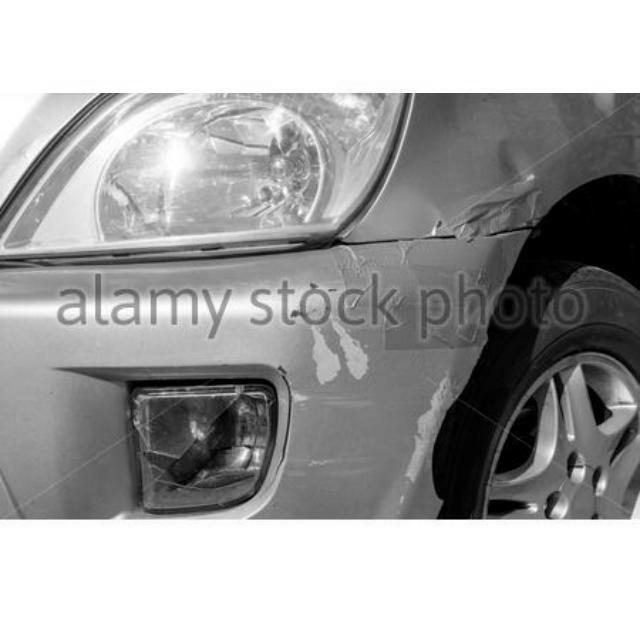fender-dent: (383, 93, 639, 238)
front-bumper-dent: (0, 239, 482, 516)
